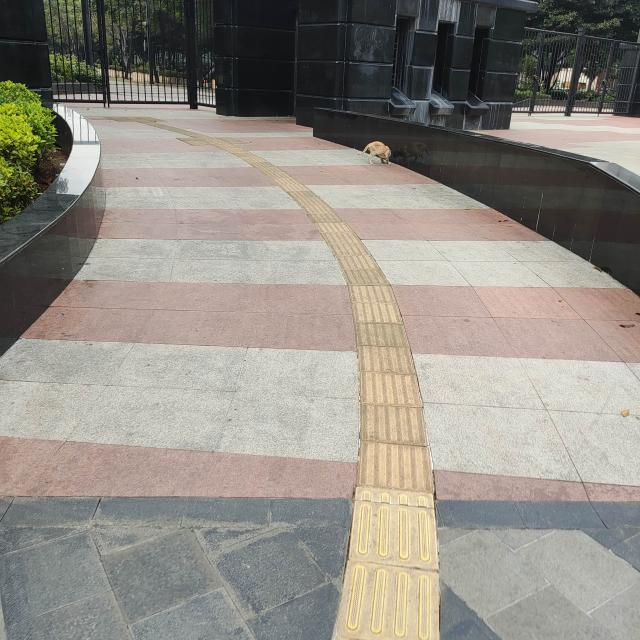lurus: (317, 267, 456, 640)
